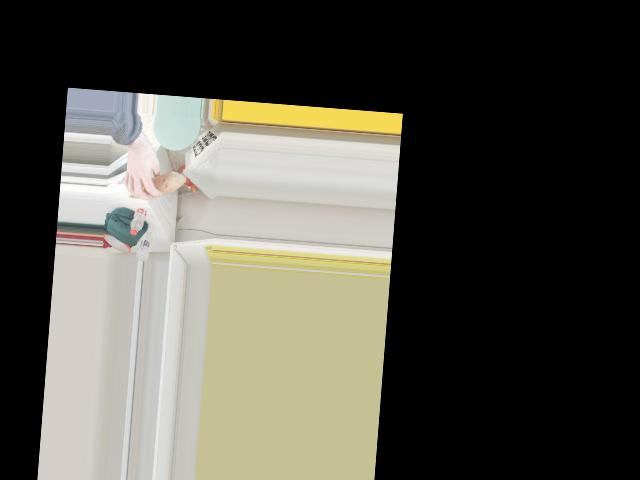sweet_potato: (126, 172, 181, 201)
